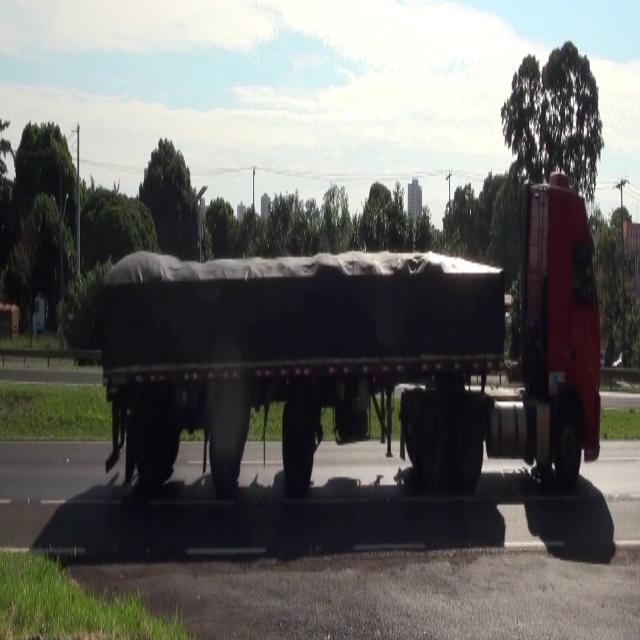-axle: (136, 399, 172, 487), (209, 405, 243, 494), (282, 396, 314, 487), (450, 408, 481, 490), (555, 405, 585, 488), (416, 406, 446, 486)
